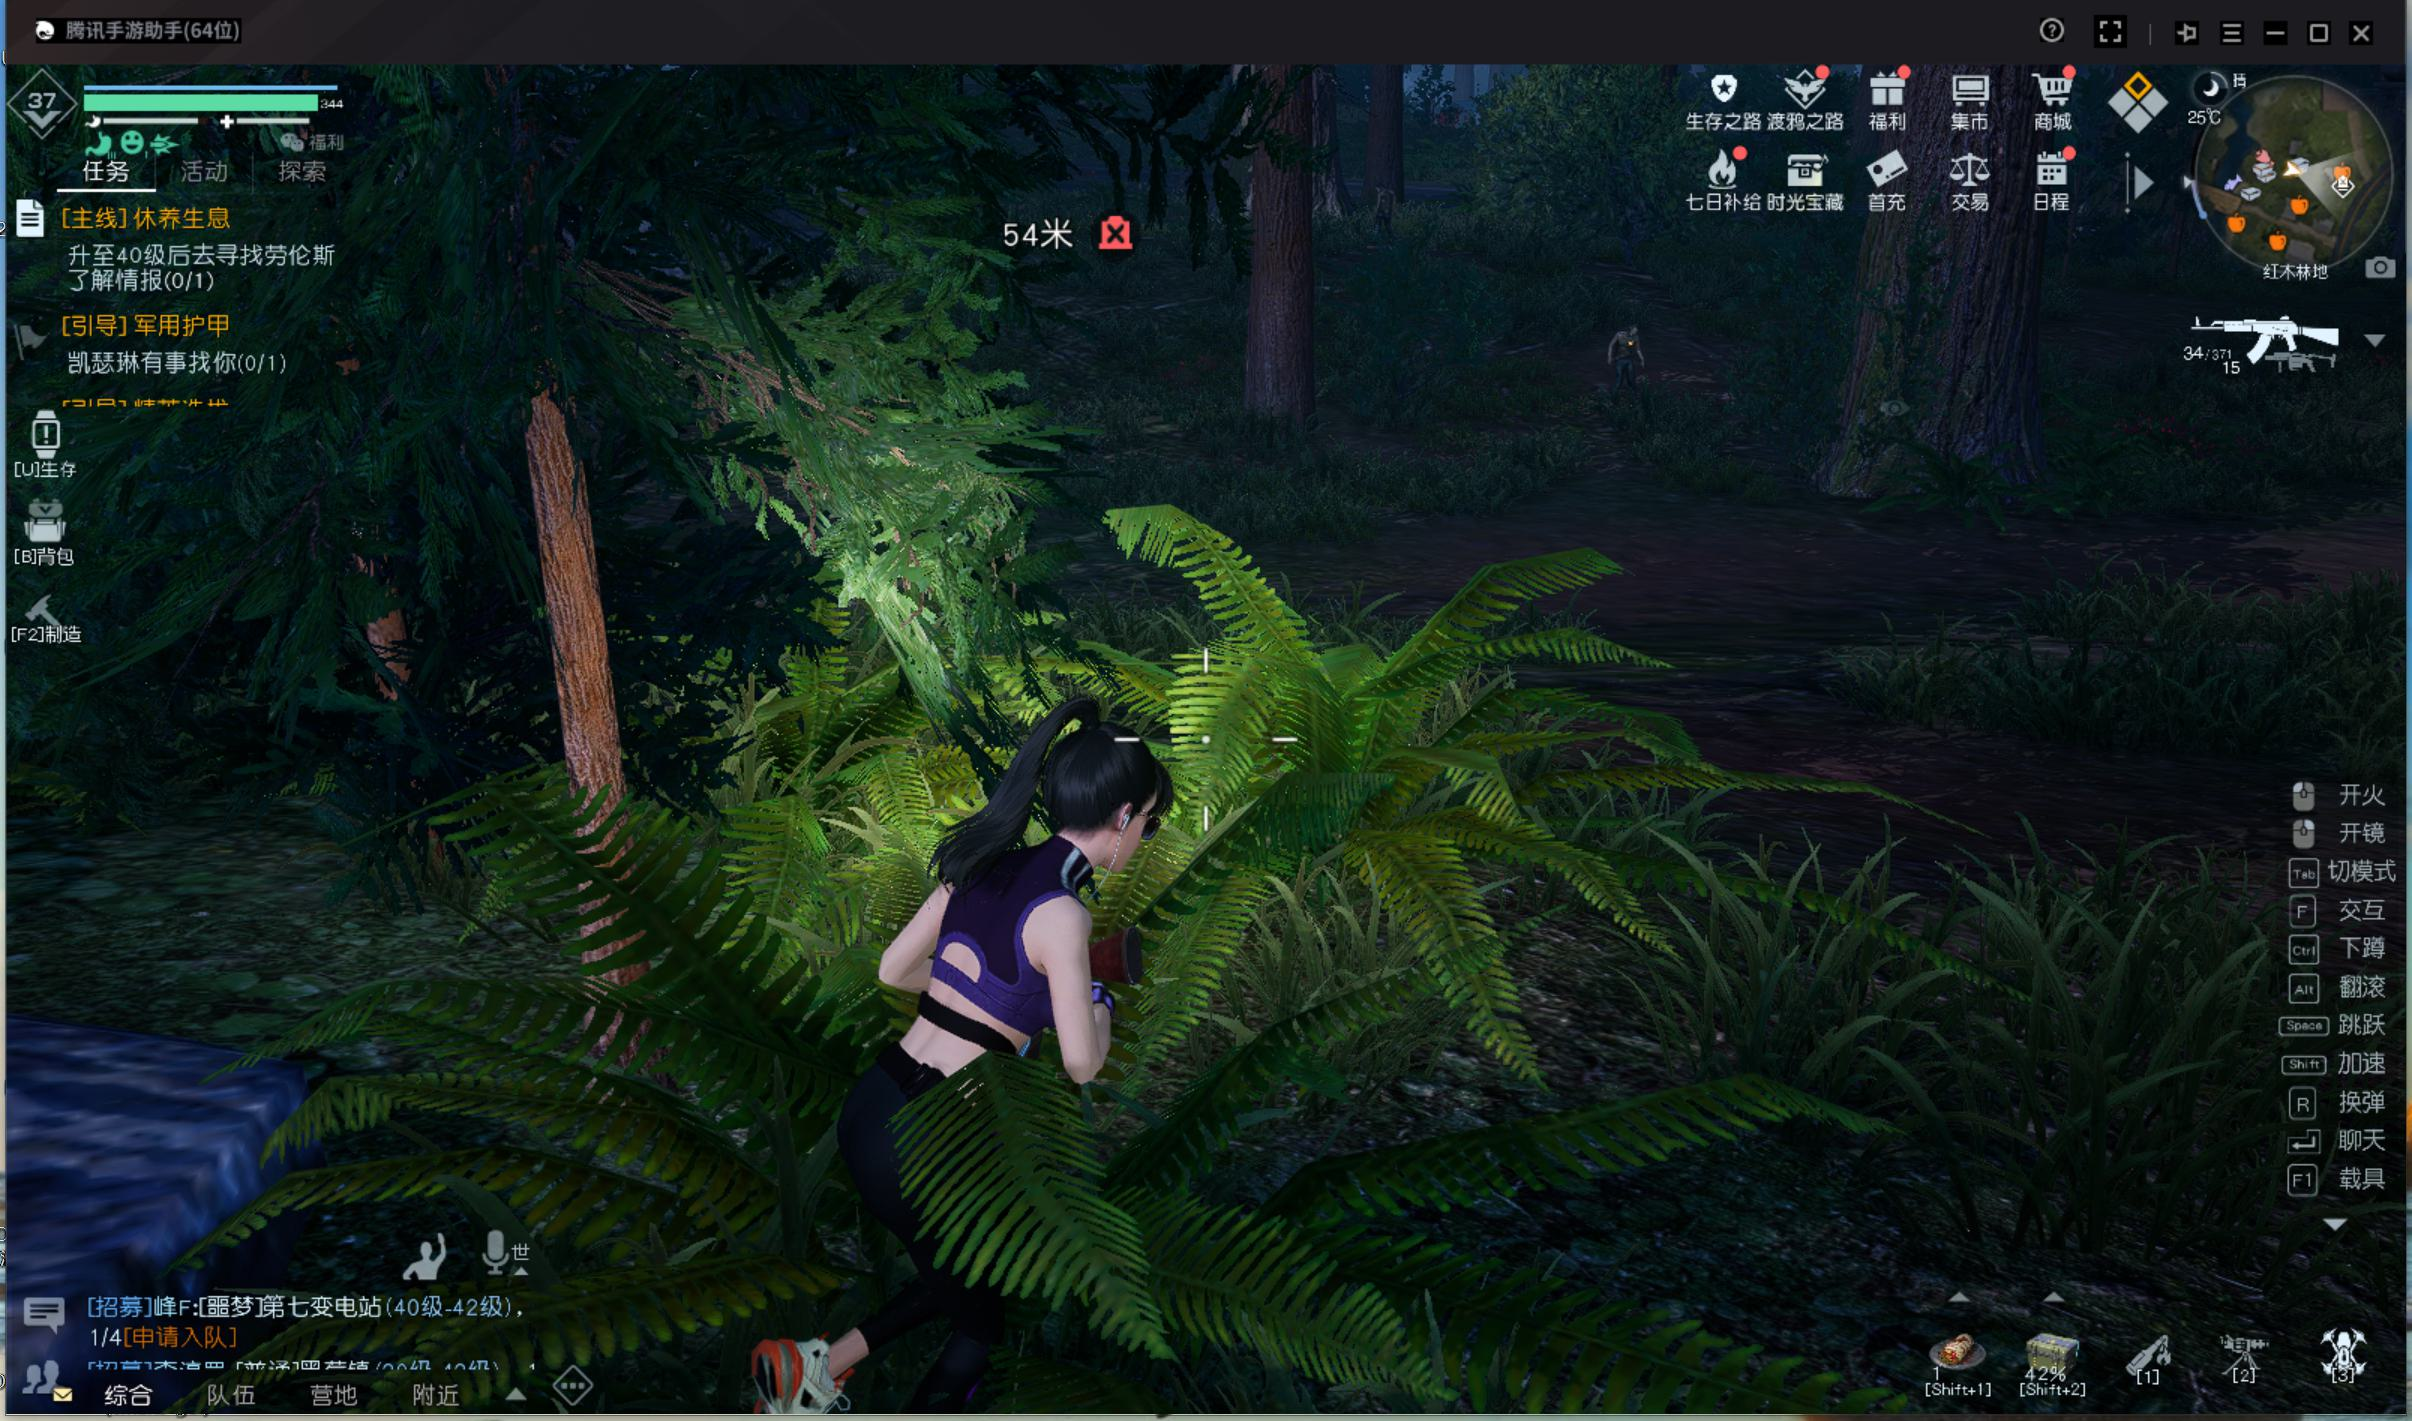tree: (1231, 91, 1328, 447)
